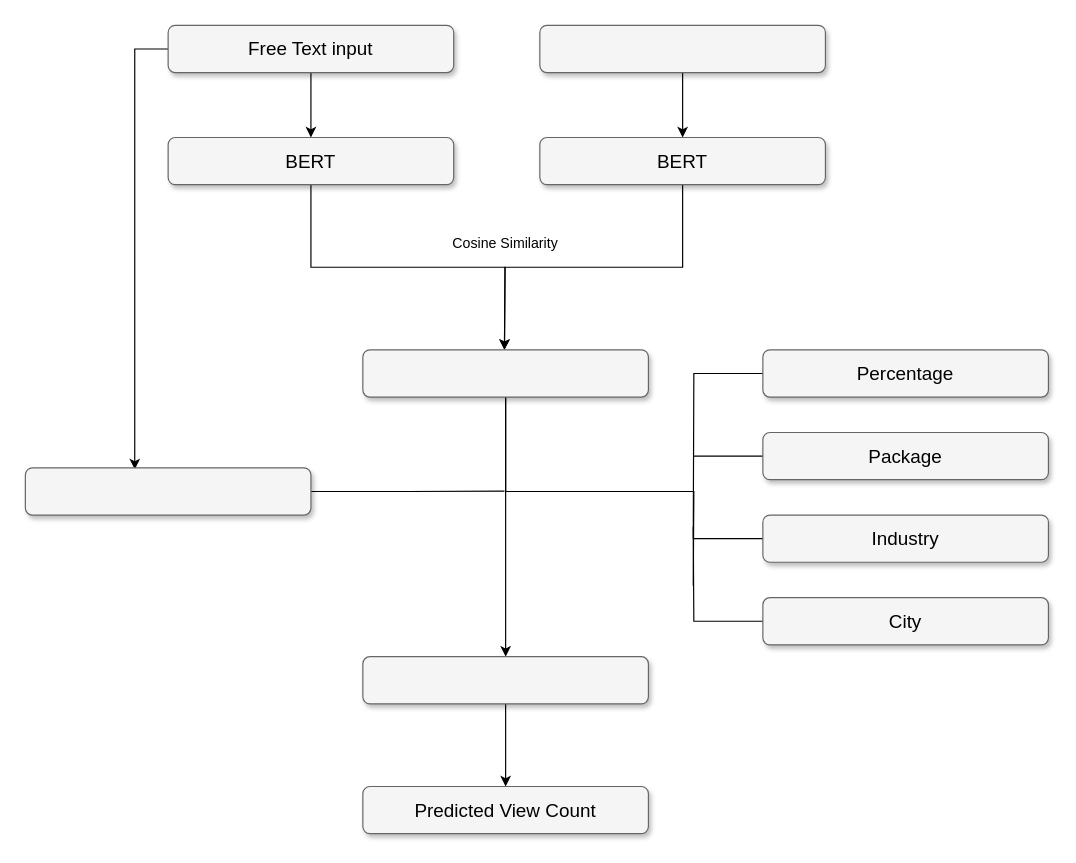
The diagram is 1076 pixels wide and 863 high, and some of its shapes have lost their labels. Here are the shapes that lost their labels. From the top down, the centre of each, then its label:
At [683,50]: "Titles Data Base".
At [506,374]: "Input + Most Similar".
At [168,492]: "Features".
At [506,681]: "Trained Neural Network".
